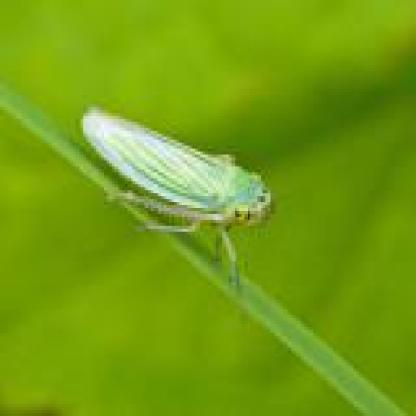Green-Leafhopper: (81, 105, 274, 290)
